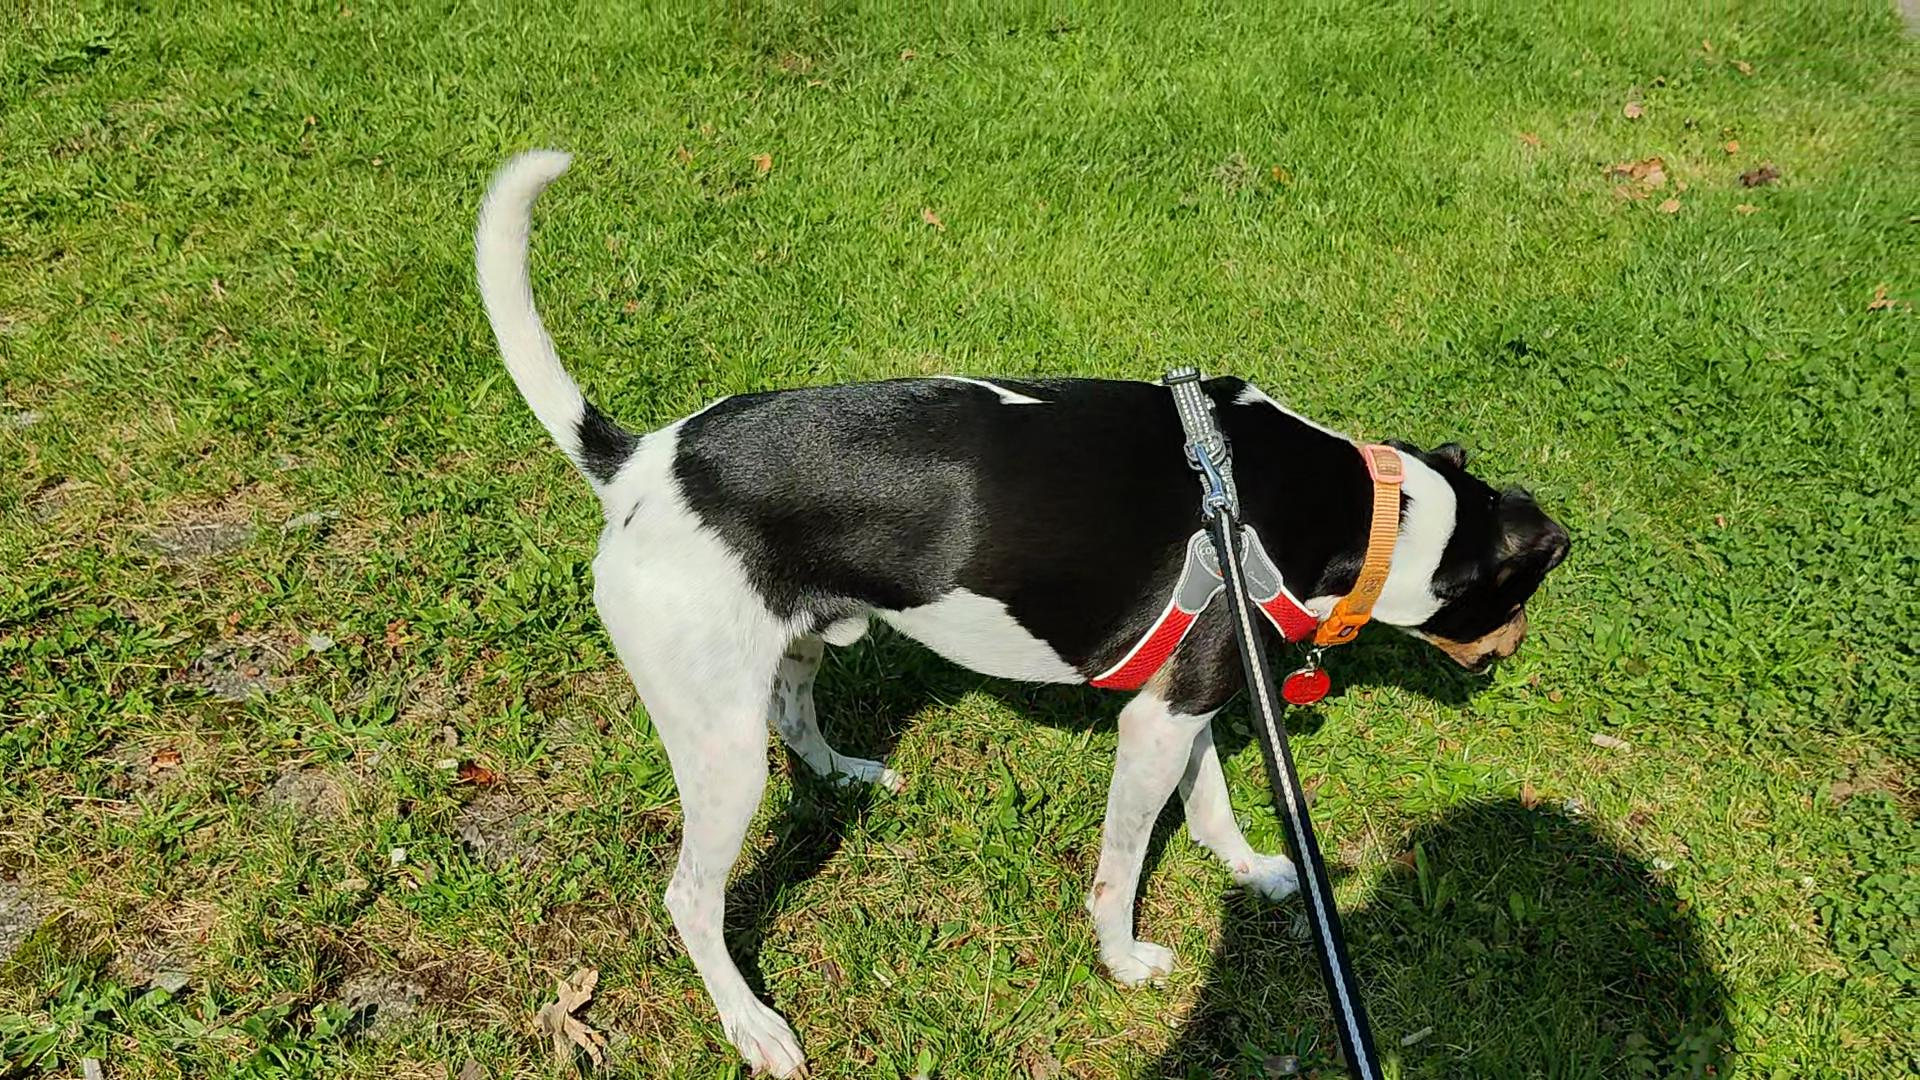Dog: (465, 146, 1572, 1079)
